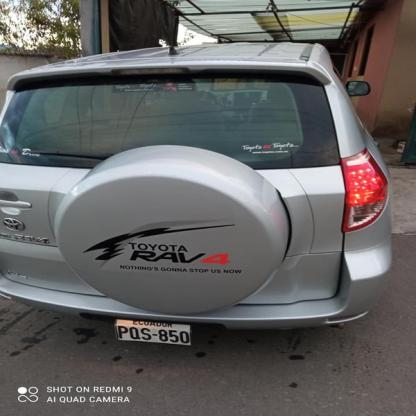Placa: (113, 316, 195, 350)
